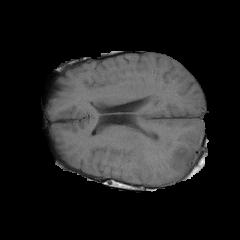glioma: (144, 128, 200, 174)
